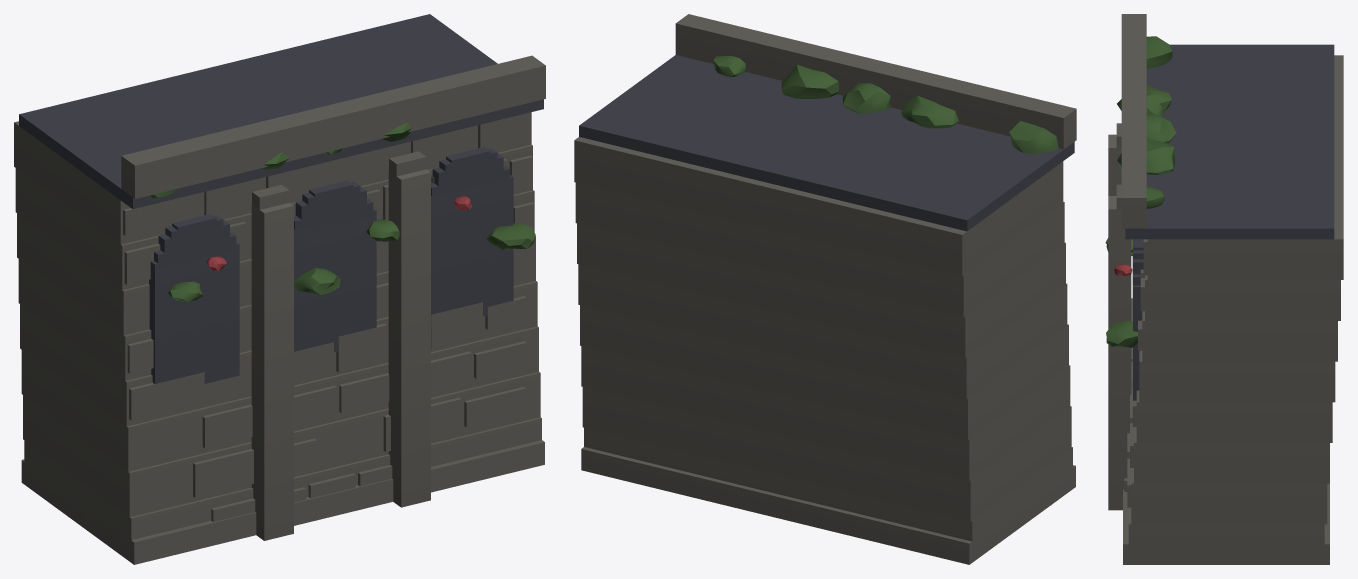
Rendered from town_terrace_wall.glb.
3 renders of one model, left to right at view 1: azimuth 30°, elevation 25°; view 2: azimuth 150°, elevation 25°; view 3: azimuth 270°, elevation 25°, orthographic. The views are drawn at different scales.
Parts seen in each view (by area): view 1: prop; view 2: prop; view 3: prop.
Part boxes in pixels (x1=…): prop: x1=14, y1=14, x2=545, y2=564; prop: x1=574, y1=14, x2=1076, y2=564; prop: x1=1105, y1=14, x2=1343, y2=564.
Bounding box in the file's own units: 8 × 7.44 × 4.38.
